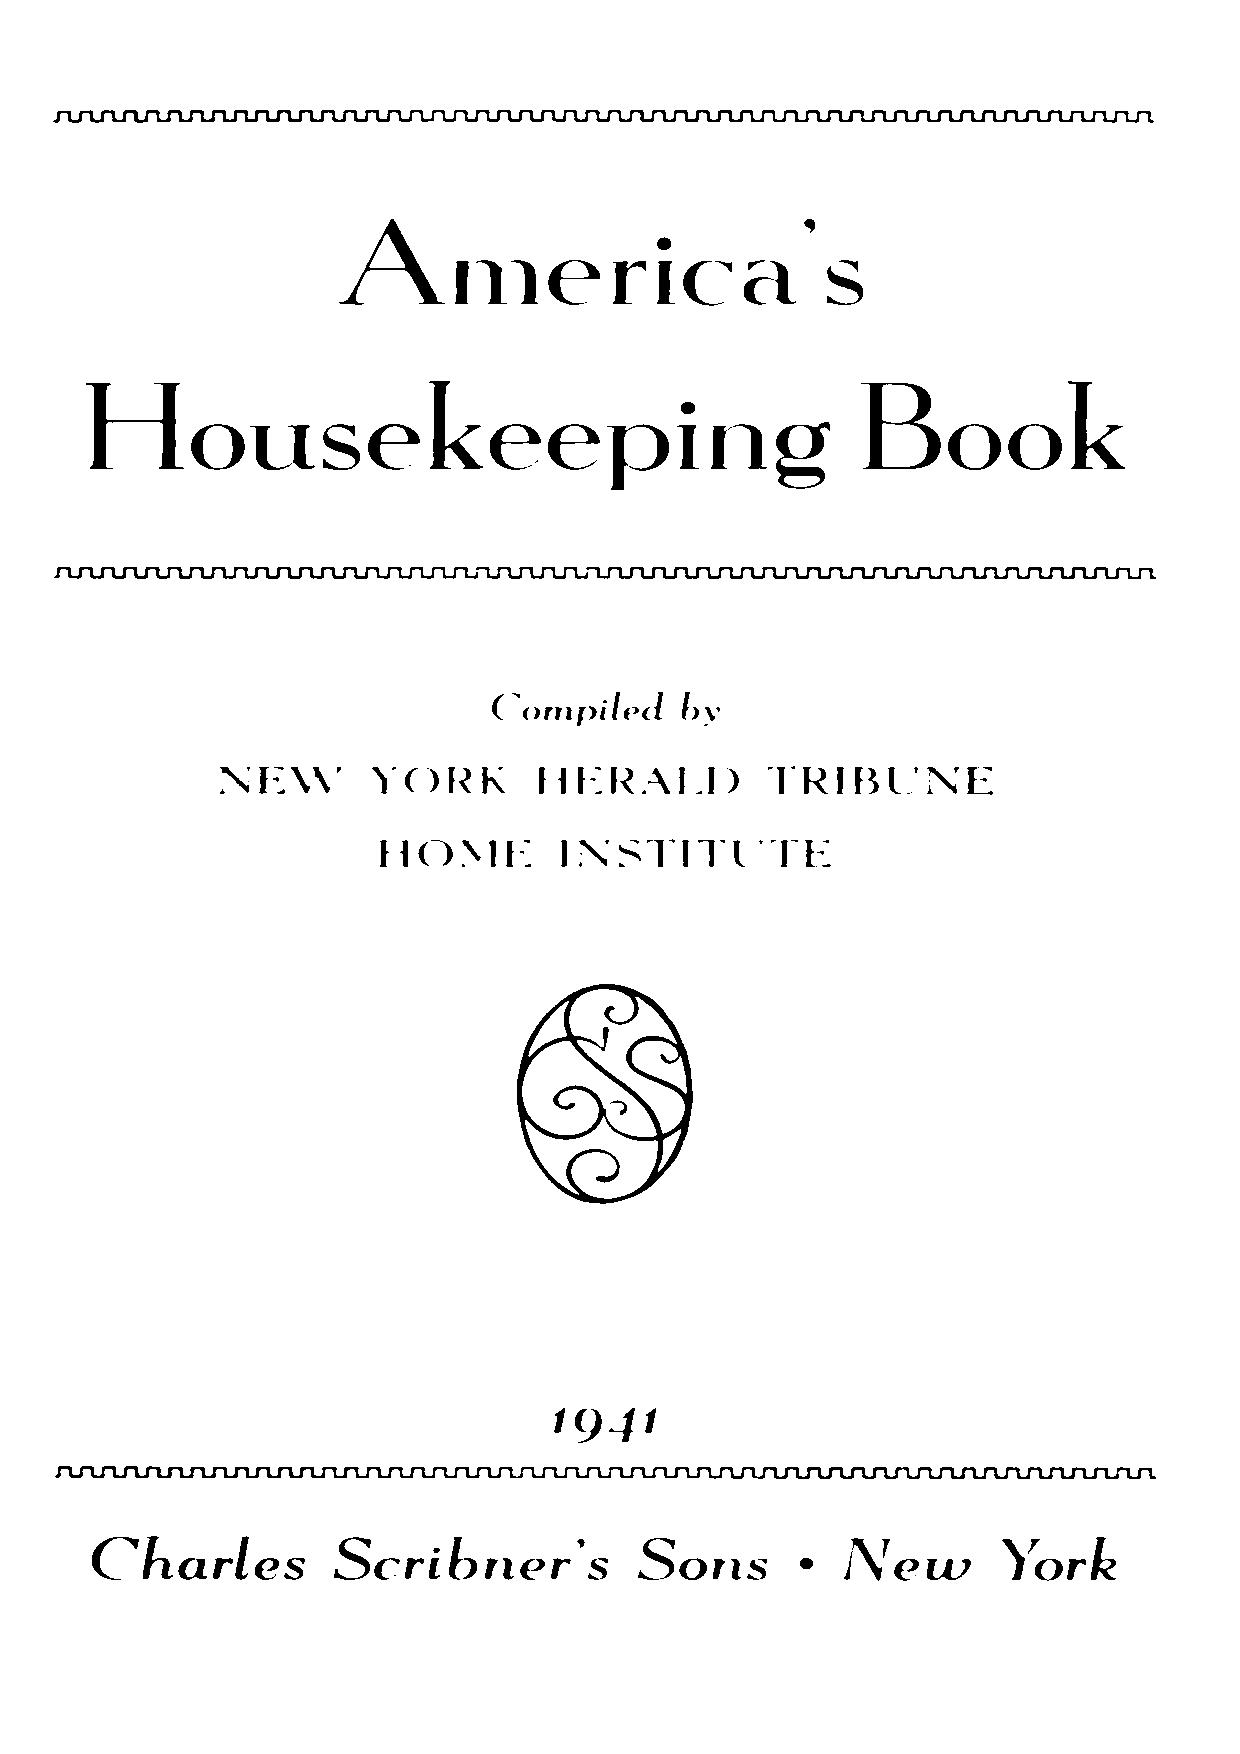author: (213, 687, 993, 871)
title: (86, 215, 1126, 494)
